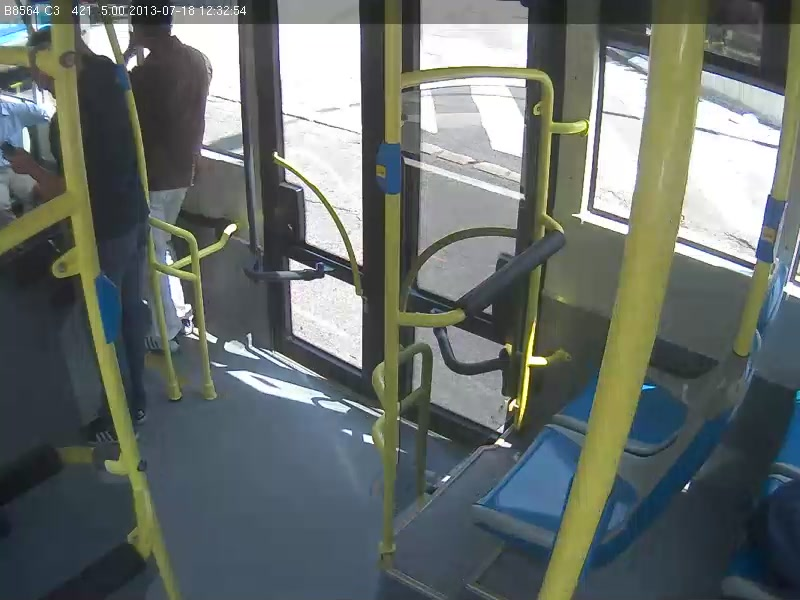Head: (120, 0, 181, 58), (31, 26, 53, 104)
